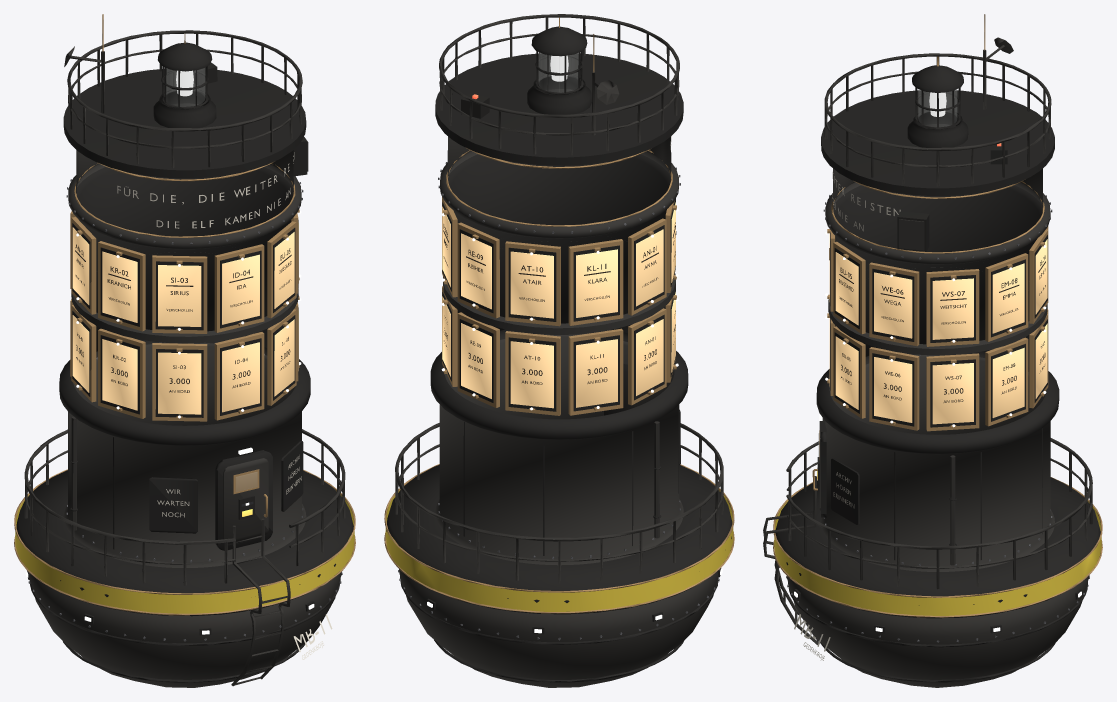
The model's file is Gedenkboje.glb.
The picture shows the model from 3 angles, left to right: view 1: azimuth 30°, elevation 25°; view 2: azimuth 150°, elevation 25°; view 3: azimuth 270°, elevation 25°; orthographic projection. The views are drawn at different scales.
Visible parts, largest first — view 1: Gedenkboje_lack, Gedenkboje_glow_Tafel hinterleuchtet, Gedenkboje_metall, Gedenkboje_warn, Gedenkboje_schrift, Gedenkboje_glas; view 2: Gedenkboje_lack, Gedenkboje_glow_Tafel hinterleuchtet, Gedenkboje_metall, Gedenkboje_warn, Gedenkboje_schrift, Gedenkboje_glas; view 3: Gedenkboje_lack, Gedenkboje_glow_Tafel hinterleuchtet, Gedenkboje_metall, Gedenkboje_warn, Gedenkboje_schrift, Gedenkboje_glas.
Boxes of the visible parts, x1=… form: Gedenkboje_lack: x1=16, y1=30, x2=353, y2=687; Gedenkboje_glow_Tafel hinterleuchtet: x1=72, y1=223, x2=298, y2=414; Gedenkboje_metall: x1=14, y1=14, x2=355, y2=641; Gedenkboje_warn: x1=15, y1=491, x2=354, y2=613; Gedenkboje_schrift: x1=75, y1=152, x2=332, y2=659; Gedenkboje_glas: x1=166, y1=68, x2=257, y2=491; Gedenkboje_lack: x1=386, y1=14, x2=732, y2=687; Gedenkboje_glow_Tafel hinterleuchtet: x1=442, y1=202, x2=675, y2=408; Gedenkboje_metall: x1=384, y1=17, x2=734, y2=640; Gedenkboje_warn: x1=385, y1=490, x2=733, y2=611; Gedenkboje_schrift: x1=443, y1=136, x2=676, y2=384; Gedenkboje_glas: x1=539, y1=52, x2=578, y2=92; Gedenkboje_lack: x1=763, y1=37, x2=1100, y2=687; Gedenkboje_glow_Tafel hinterleuchtet: x1=829, y1=233, x2=1047, y2=424; Gedenkboje_metall: x1=773, y1=14, x2=1102, y2=642; Gedenkboje_warn: x1=774, y1=500, x2=1101, y2=615; Gedenkboje_schrift: x1=794, y1=172, x2=1045, y2=660; Gedenkboje_glas: x1=818, y1=89, x2=956, y2=456.
Size of the model in its own units: 4.57 by 9.67 by 4.7.
